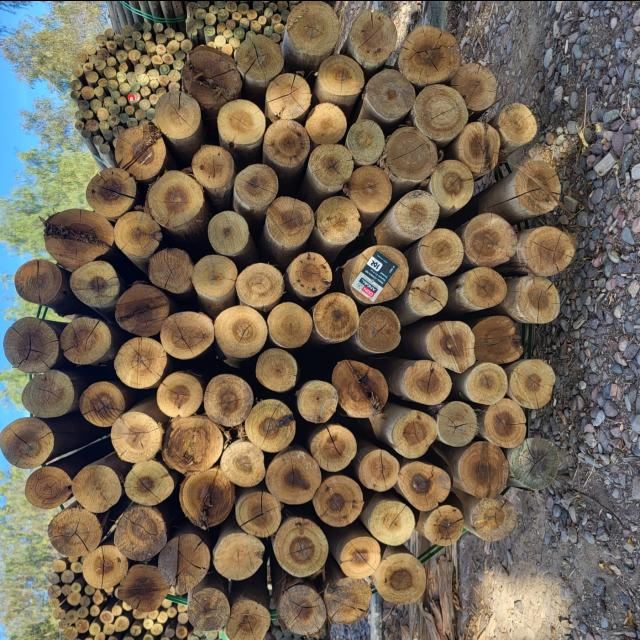package: (5, 0, 572, 640), (74, 19, 188, 150), (42, 550, 188, 640), (182, 0, 320, 55)
